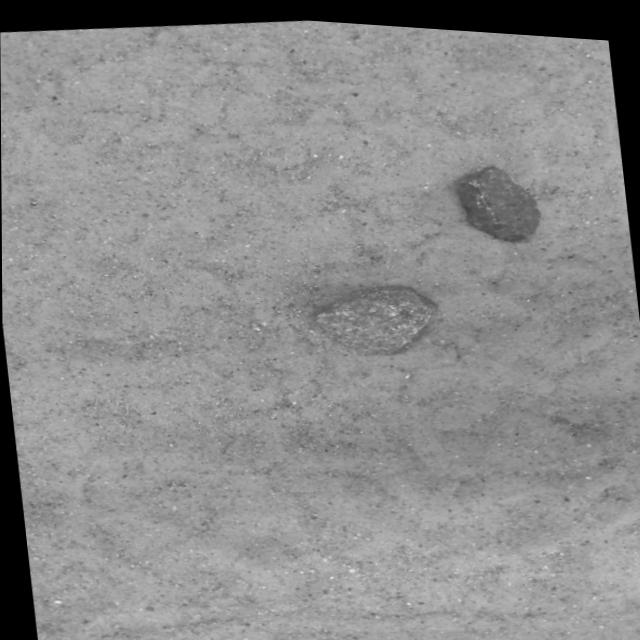rock: (314, 280, 434, 349), (456, 160, 537, 233)
